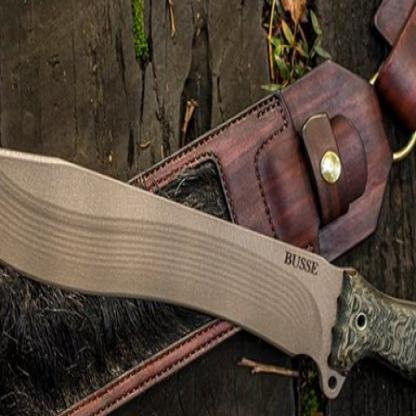knife: (0, 123, 415, 415)
